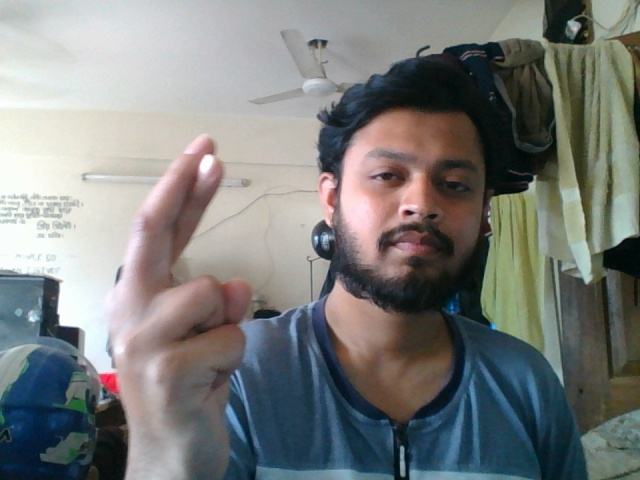r: (102, 127, 260, 480)
